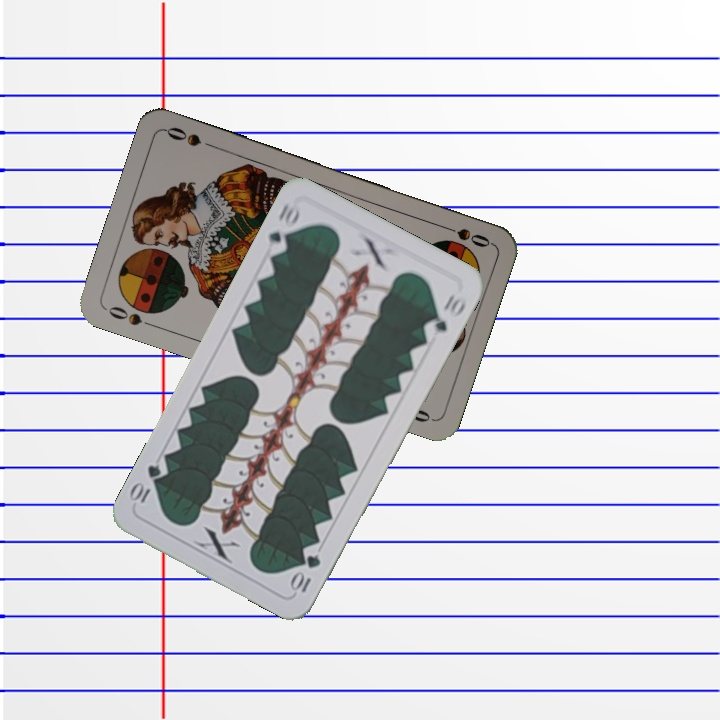G10: (262, 199, 302, 258), (287, 551, 324, 596)
SO: (436, 220, 493, 250), (102, 302, 159, 331)
